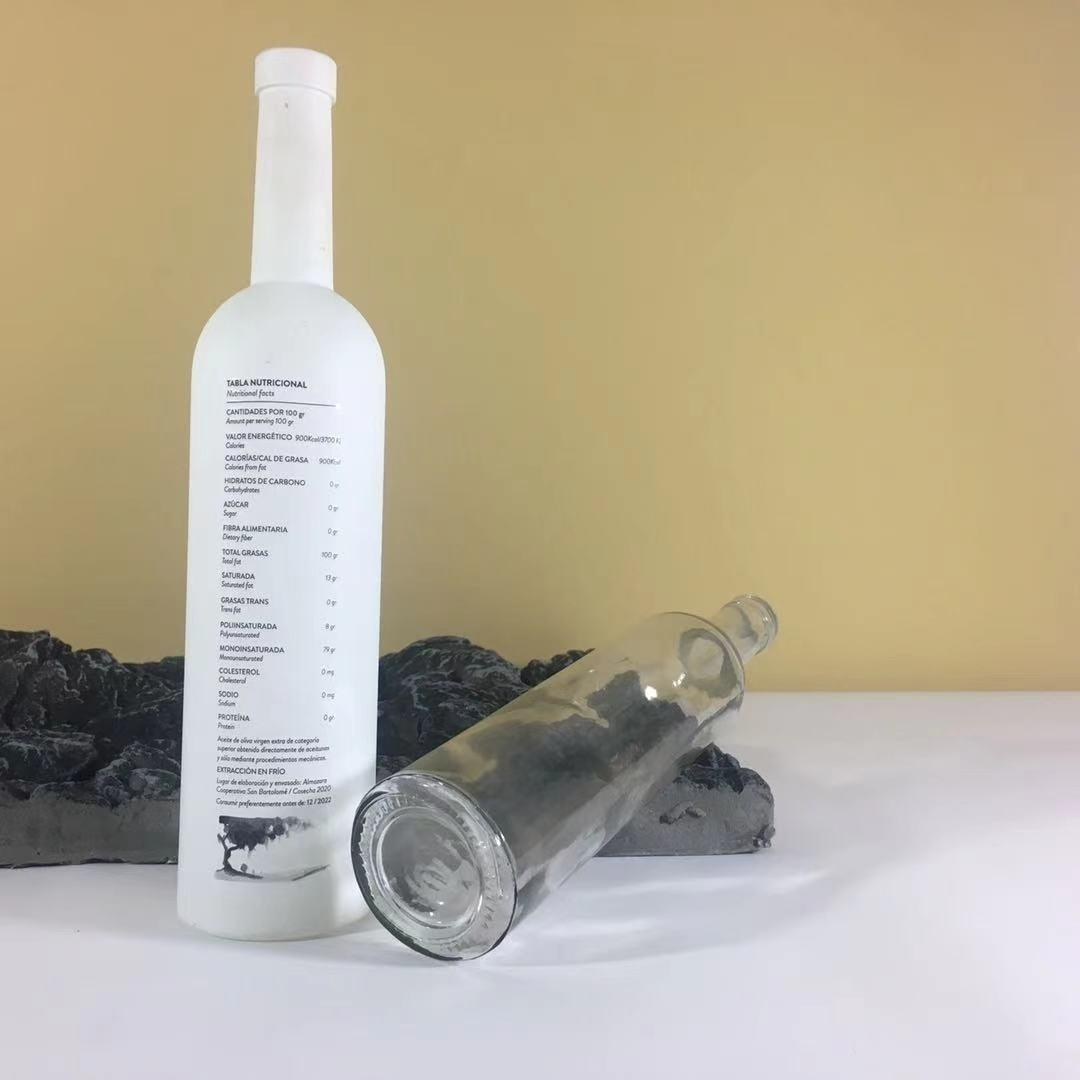bottle-glass: (178, 42, 390, 942), (348, 586, 780, 964)
